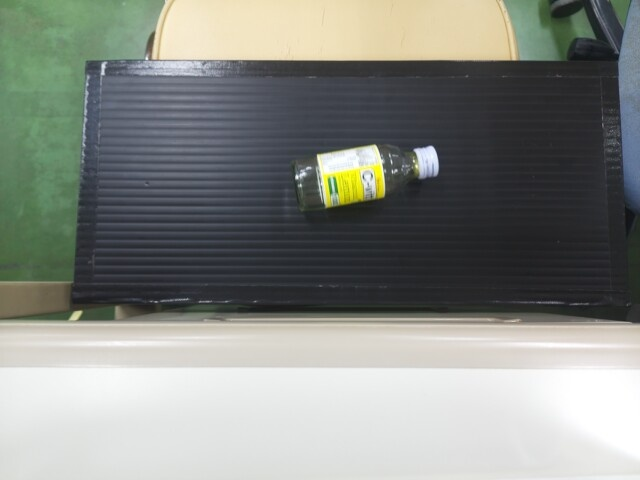glass_bottle: (288, 143, 439, 209)
